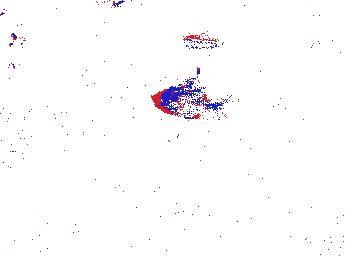X-ray fish: (150, 81, 222, 117)
red belly glassfish: (182, 32, 230, 52), (285, 37, 321, 55)
